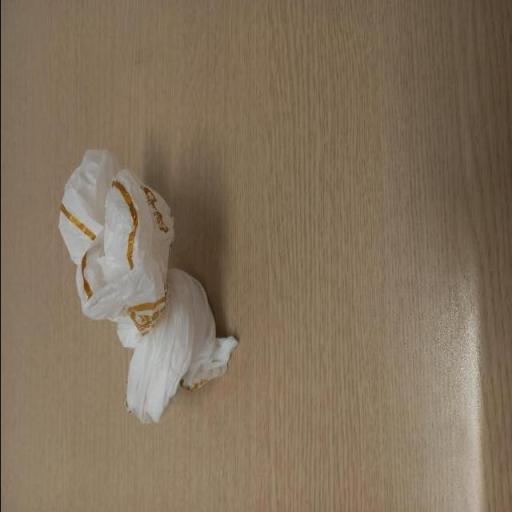plastic-bag: (54, 148, 239, 425)
